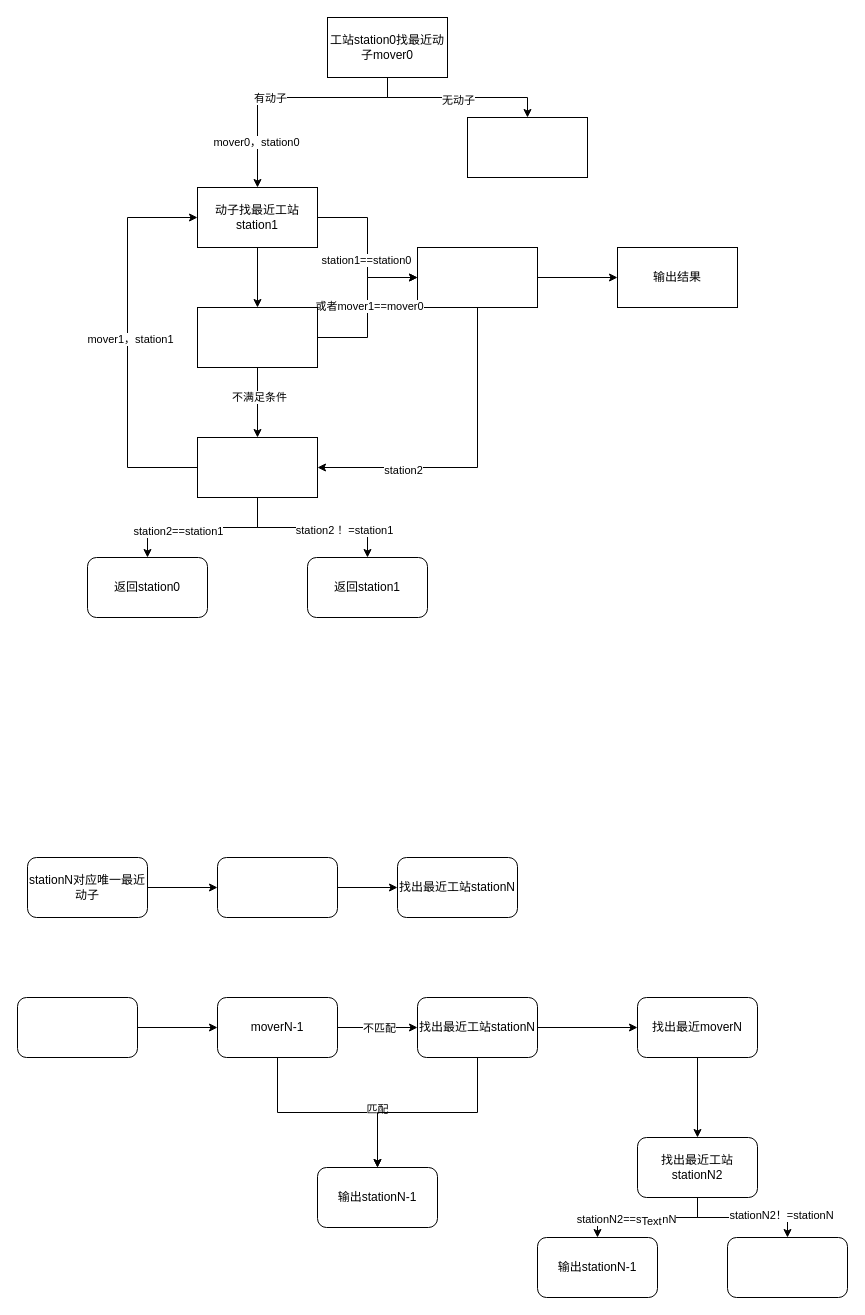
This 865x1315 diagram has some shape labels left out. Each missing label, with the centre of its shape:
"moverN" goes at (x=277, y=887).
"stationN" goes at (x=787, y=1267).
"stationN-1对应唯一最近动子" goes at (x=77, y=1027).
"工站找最近动子mover1" goes at (x=257, y=337).
"找到最近的工站" goes at (x=477, y=277).
"跳出" goes at (x=527, y=147).
"递归" goes at (x=257, y=467).
